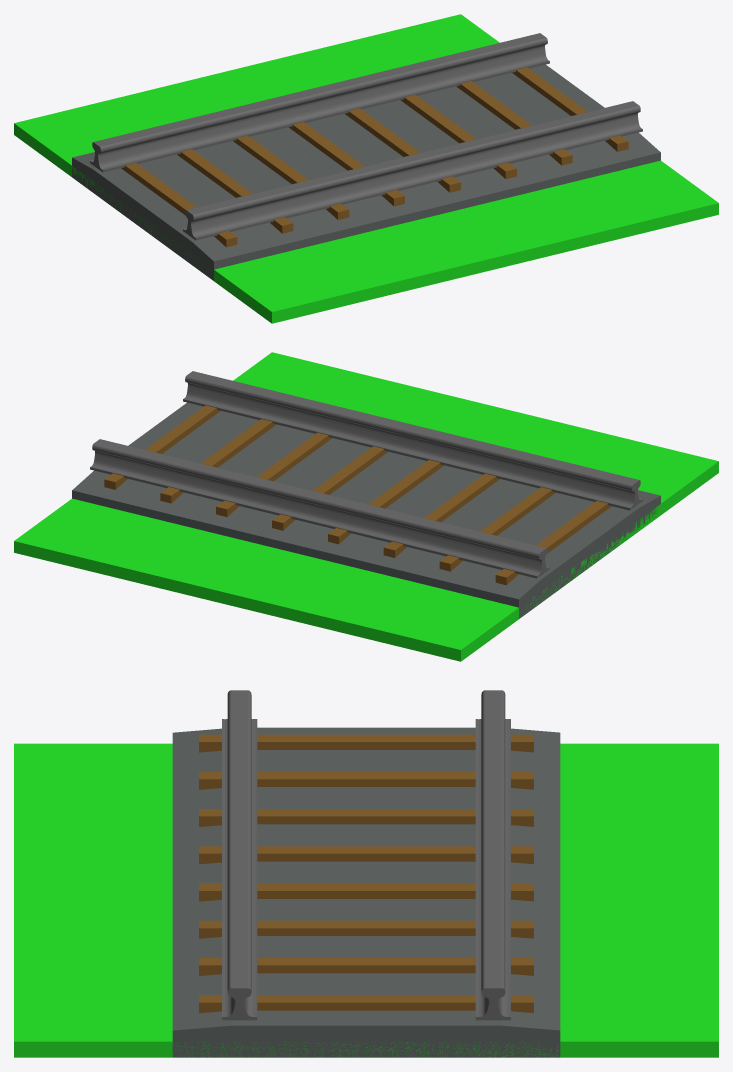
File: rail_droite.fbx
3 renders of one model, top to bottom at view 1: azimuth 30°, elevation 25°; view 2: azimuth 150°, elevation 25°; view 3: azimuth 270°, elevation 25°, orthographic. The views are drawn at different scales.
Parts seen in each view (by area): view 1: Sol, Basalt, Rail2.001, Rail2, Bois2.007, Bois2, Bois2.006, Bois2.005, Bois2.003, Bois2.004, Bois2.002, Bois2.001; view 2: Sol, Basalt, Rail2, Rail2.001, Bois2.007, Bois2, Bois2.006, Bois2.003, Bois2.005, Bois2.002, Bois2.004, Bois2.001; view 3: Sol, Basalt, Rail2.001, Rail2, Bois2.006, Bois2.003, Bois2.007, Bois2.002, Bois2.001, Bois2.005, Bois2, Bois2.004.
Part boxes in pixels (x1,y1,x2,y2): Sol: [14, 14, 718, 323]; Basalt: [72, 64, 660, 280]; Rail2.001: [183, 101, 642, 240]; Rail2: [90, 33, 549, 172]; Bois2.007: [121, 163, 237, 247]; Bois2: [233, 135, 349, 219]; Bois2.006: [177, 149, 293, 233]; Bois2.005: [512, 67, 628, 151]; Bois2.003: [400, 94, 516, 178]; Bois2.004: [456, 81, 572, 165]; Bois2.002: [345, 108, 460, 192]; Bois2.001: [289, 122, 404, 206]; Sol: [14, 352, 718, 661]; Basalt: [72, 402, 660, 618]; Rail2: [90, 439, 549, 578]; Rail2.001: [183, 371, 642, 510]; Bois2.007: [495, 501, 611, 585]; Bois2: [383, 473, 499, 557]; Bois2.006: [439, 487, 555, 571]; Bois2.003: [216, 432, 332, 516]; Bois2.005: [104, 405, 220, 489]; Bois2.002: [272, 446, 387, 530]; Bois2.004: [160, 419, 276, 503]; Bois2.001: [328, 460, 443, 544]; Sol: [14, 743, 718, 1057]; Basalt: [172, 727, 560, 1057]; Rail2.001: [222, 690, 257, 1020]; Rail2: [475, 690, 510, 1020]; Bois2.006: [199, 771, 533, 789]; Bois2.003: [199, 920, 533, 938]; Bois2.007: [199, 734, 533, 752]; Bois2.002: [199, 883, 533, 901]; Bois2.001: [199, 846, 533, 864]; Bois2.005: [199, 995, 533, 1013]; Bois2: [199, 809, 533, 826]; Bois2.004: [199, 958, 533, 975].
Size of the model in its own units: 400 by 43.5 by 400.
